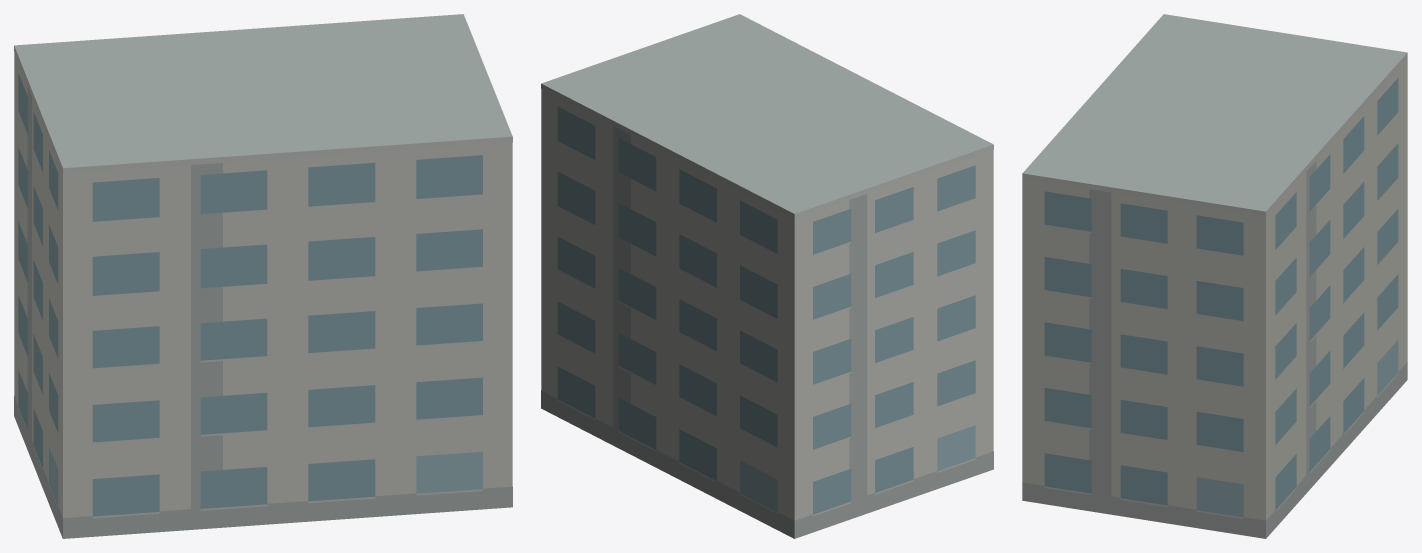
File: survey-upis-32948075.glb
3 renders of one model, left to right at view 1: azimuth 30°, elevation 25°; view 2: azimuth 150°, elevation 25°; view 3: azimuth 270°, elevation 25°, orthographic. The views are drawn at different scales.
Parts seen in each view (by area): view 1: survey-upis-32948075.tmp; view 2: survey-upis-32948075.tmp; view 3: survey-upis-32948075.tmp.
Boxes of the visible parts, <box> form: survey-upis-32948075.tmp: <box>14,14,512,538</box>; survey-upis-32948075.tmp: <box>541,14,993,538</box>; survey-upis-32948075.tmp: <box>1022,14,1407,538</box>.
Bounding box in the file's own units: 19.75 × 15.25 × 16.28.
